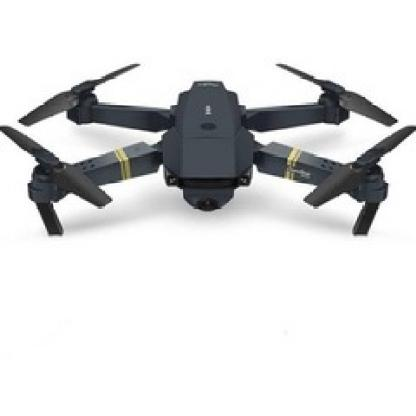drone: (2, 57, 411, 244)
